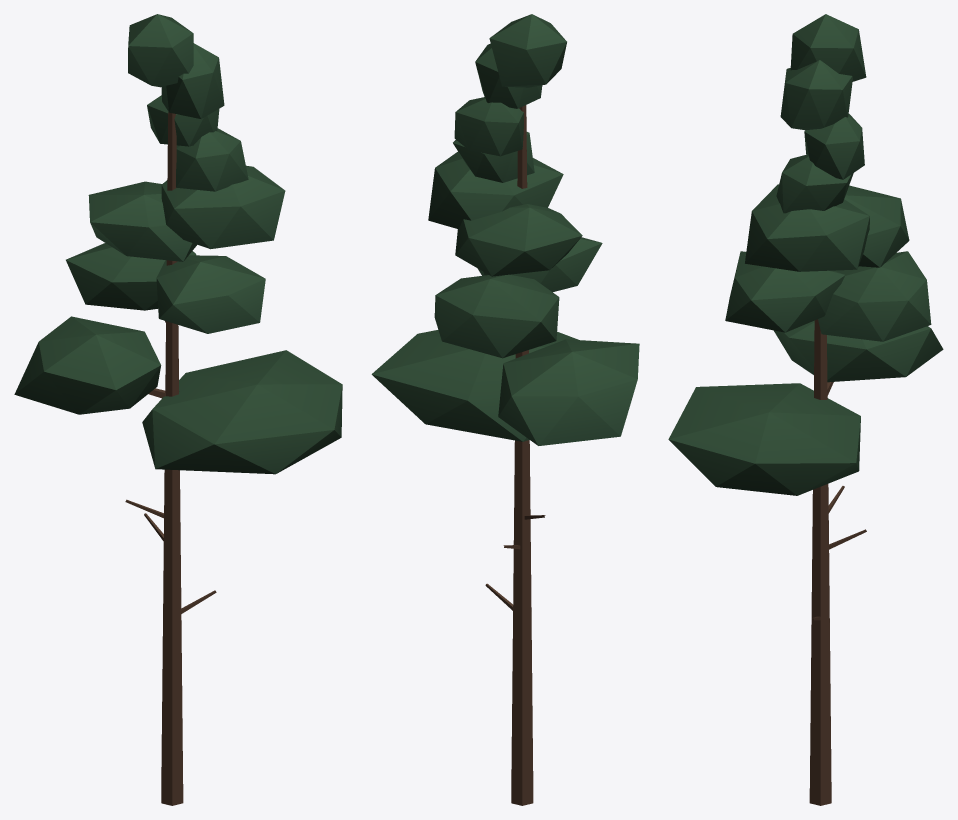
Rendered from pinheiro.glb.
The picture shows the model from 3 angles, left to right: view 1: azimuth 30°, elevation 25°; view 2: azimuth 150°, elevation 25°; view 3: azimuth 270°, elevation 25°; orthographic projection.
Parts seen in each view (by area): view 1: _MeshInstance3D_657_0; view 2: _MeshInstance3D_657_0; view 3: _MeshInstance3D_657_0.
Part boxes in pixels (x1,y1,x2,y2): _MeshInstance3D_657_0: [14, 14, 342, 805]; _MeshInstance3D_657_0: [371, 14, 639, 805]; _MeshInstance3D_657_0: [668, 14, 943, 805].
Size of the model in its own units: 5.28 by 14.97 by 4.78.
